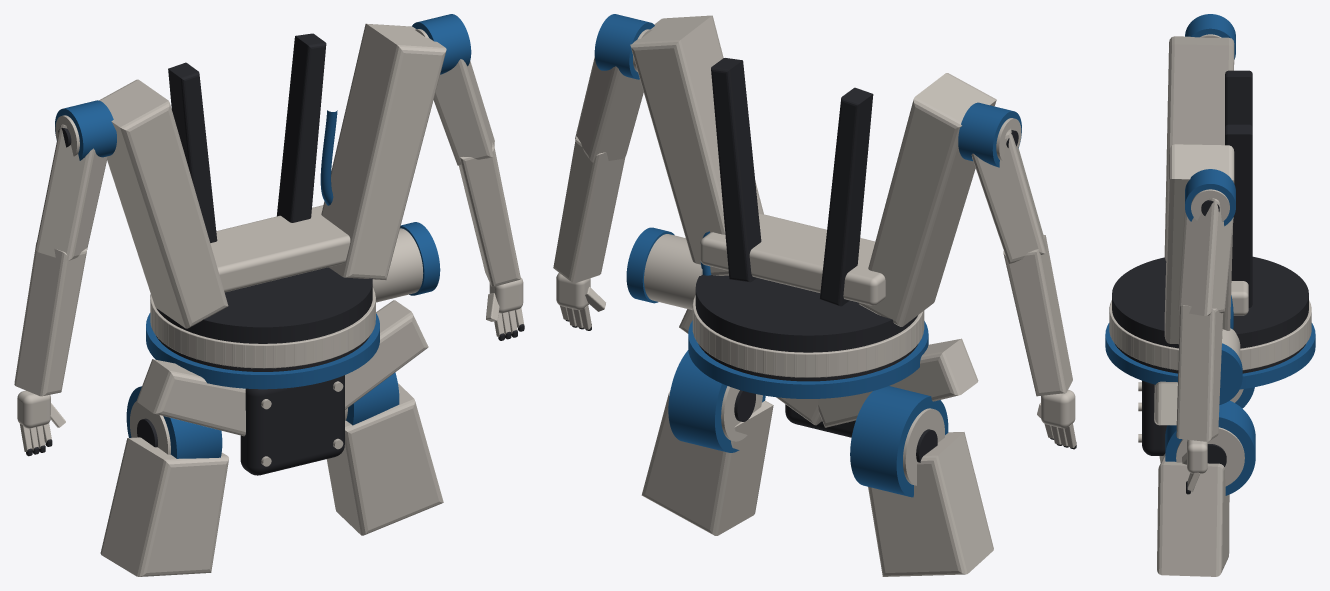
Rendered from anatomy-18.glb.
3 views of the same model, side by side, from view 1: azimuth 30°, elevation 25°; view 2: azimuth 150°, elevation 25°; view 3: azimuth 270°, elevation 25° (orthographic). The views are drawn at different scales.
Visible parts, largest first — view 1: torso, arms, legs, yaw, pelvis, hip-shield, teeth, hip, drive, cable; view 2: torso, arms, legs, yaw, hip, teeth, pelvis, drive, hip-shield; view 3: torso, arms, yaw, legs, hip, teeth, drive, hip-shield, pelvis.
Boxes of the visible parts, x1,y1,x2,y2 form: torso: [99, 23, 446, 328]; arms: [14, 14, 524, 456]; legs: [100, 383, 443, 576]; yaw: [146, 267, 379, 389]; pelvis: [137, 300, 428, 436]; hip-shield: [240, 375, 344, 475]; teeth: [150, 287, 375, 368]; hip: [126, 372, 399, 458]; drive: [372, 222, 440, 302]; cable: [320, 110, 337, 205]; torso: [630, 15, 996, 326]; arms: [553, 14, 1076, 449]; legs: [641, 391, 993, 576]; yaw: [688, 274, 928, 398]; hip: [668, 350, 948, 497]; teeth: [692, 295, 924, 377]; pelvis: [679, 309, 978, 427]; drive: [626, 227, 702, 309]; hip-shield: [785, 404, 855, 437]; torso: [1164, 36, 1252, 344]; arms: [1176, 14, 1235, 494]; yaw: [1105, 256, 1315, 389]; legs: [1157, 453, 1229, 576]; hip: [1165, 387, 1255, 495]; teeth: [1109, 300, 1311, 370]; drive: [1219, 328, 1242, 404]; hip-shield: [1138, 380, 1167, 455]; pelvis: [1154, 381, 1177, 425].
Size of the model in its own units: 2.37 by 2.17 by 0.962.
